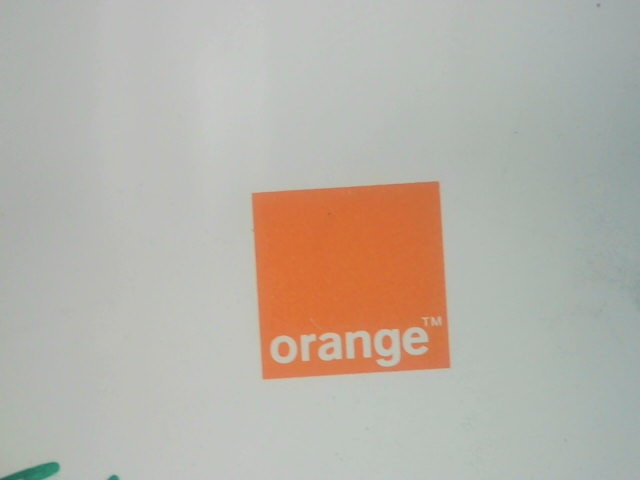AR_Orange: (242, 179, 454, 382)
